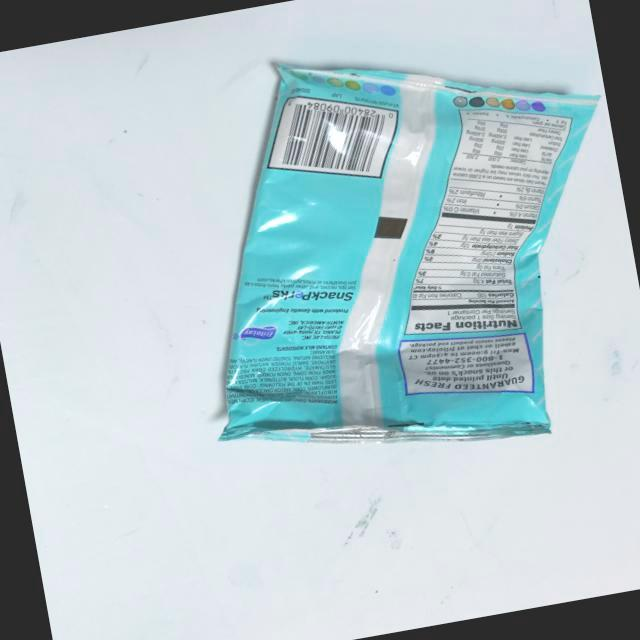plastic: (76, 0, 640, 528)
